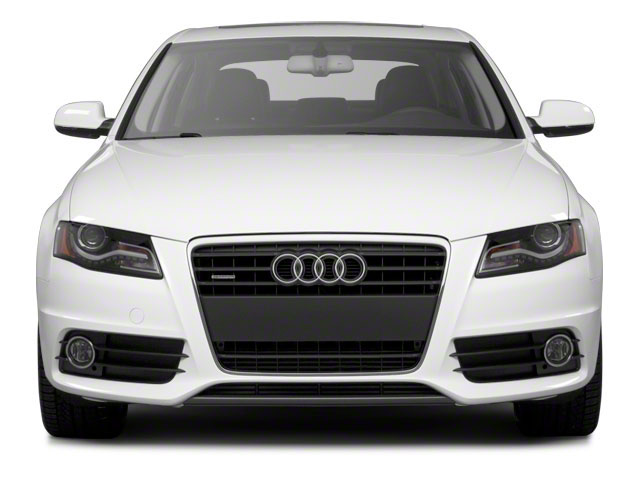audi: (263, 248, 373, 293)
